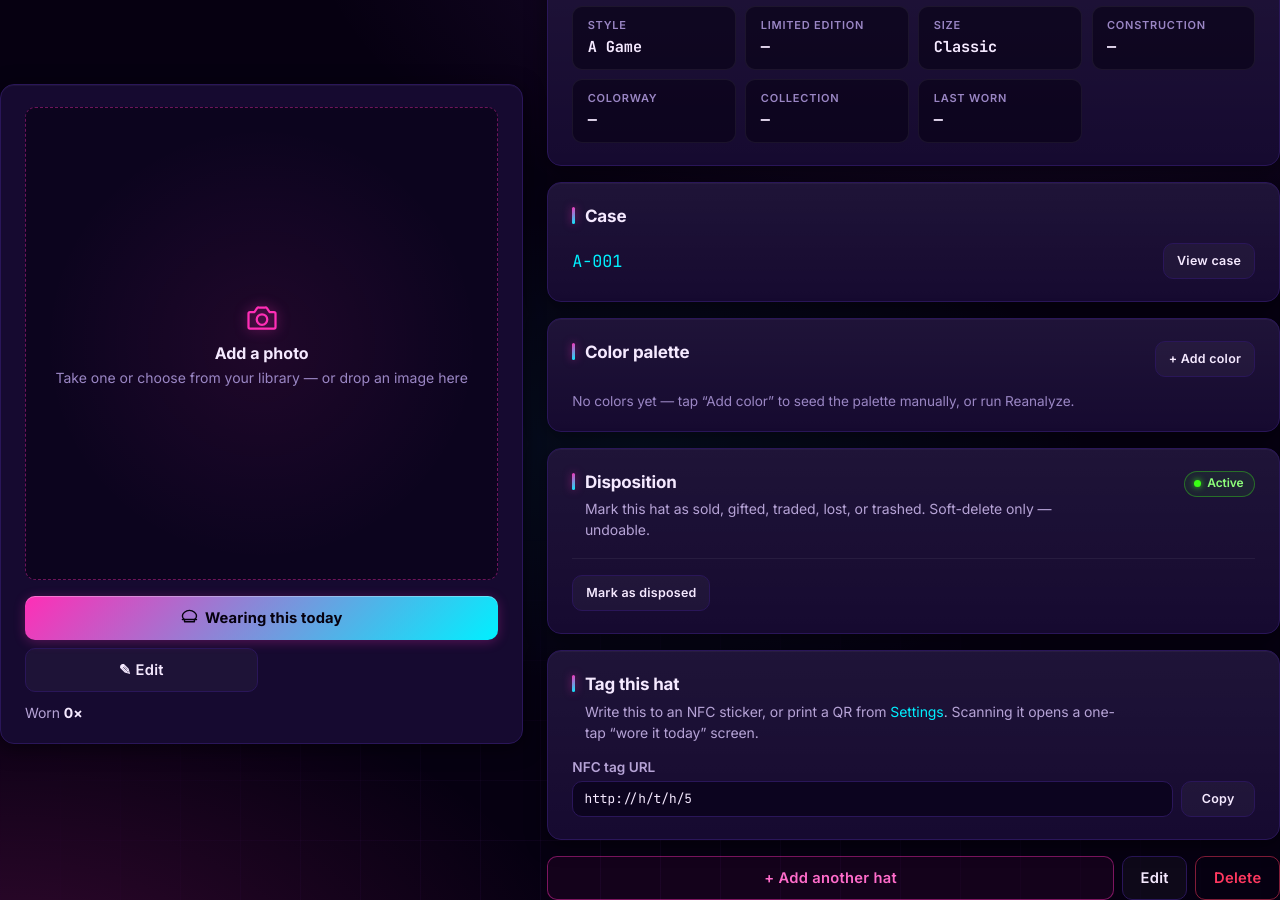
Scenario: HatDetailPage — delete › asks first, and Cancel deletes nothing
(page scrolled)
Click the button "Delete".
click(1238, 878)  # box [1195,856,1279,899]
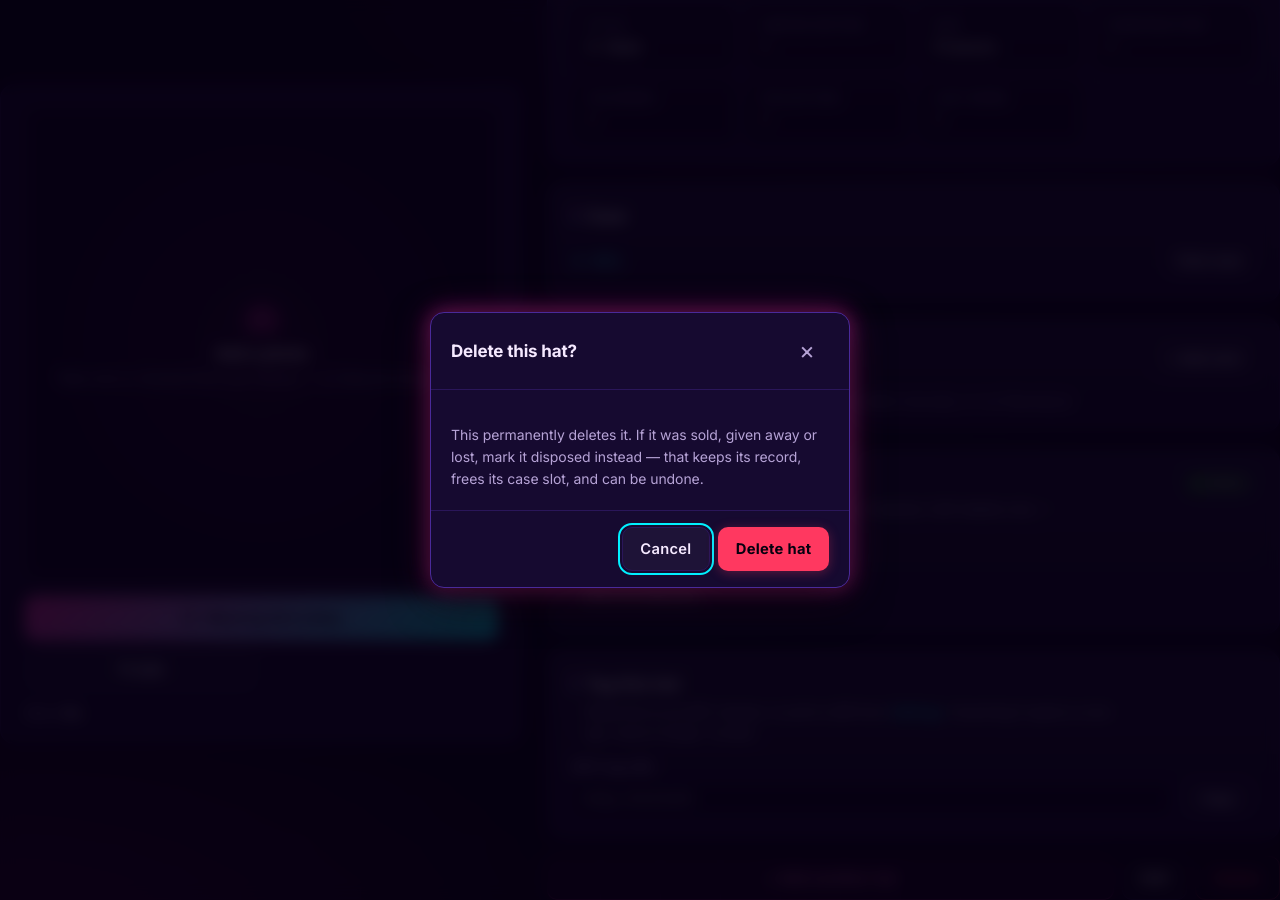
Expected: the text "mark it disposed instead" is shown, [451,426,817,487]
Click the button "Cancel".
click(666, 548)  # box [622,526,710,570]
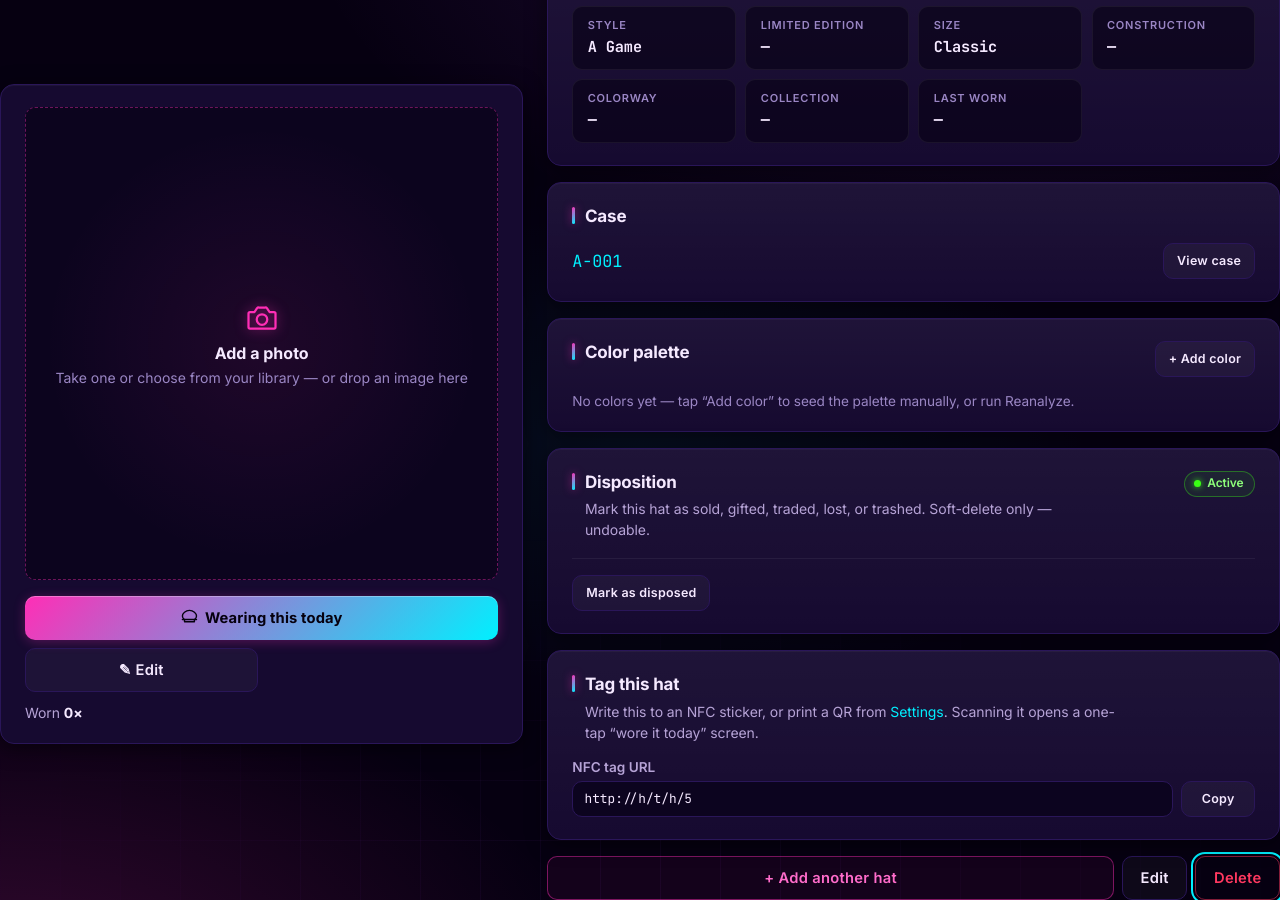
Expected: the dialog is gone
